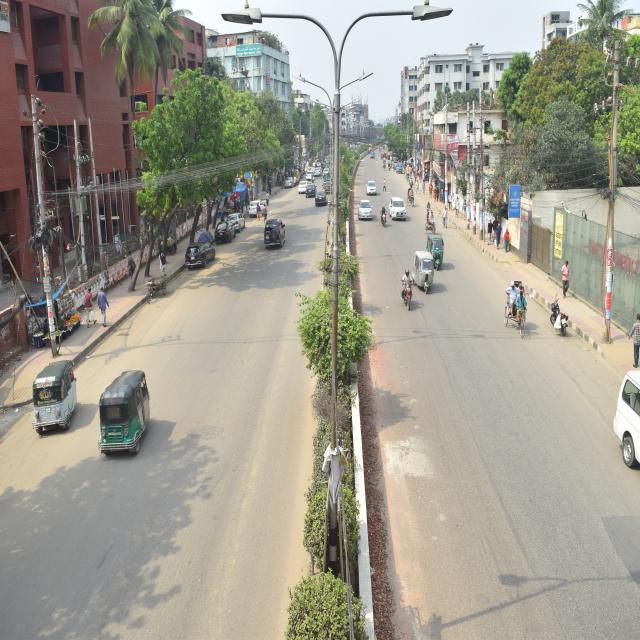car: (184, 242, 217, 272), (214, 219, 238, 244), (356, 198, 375, 225), (248, 192, 267, 218), (228, 212, 245, 233), (366, 173, 380, 196), (313, 187, 327, 208), (302, 180, 316, 201), (297, 175, 307, 192)
microbus: (610, 361, 640, 479), (386, 192, 410, 230), (263, 214, 286, 246)
motorbike: (547, 289, 572, 339), (395, 269, 417, 310), (374, 197, 390, 232)
